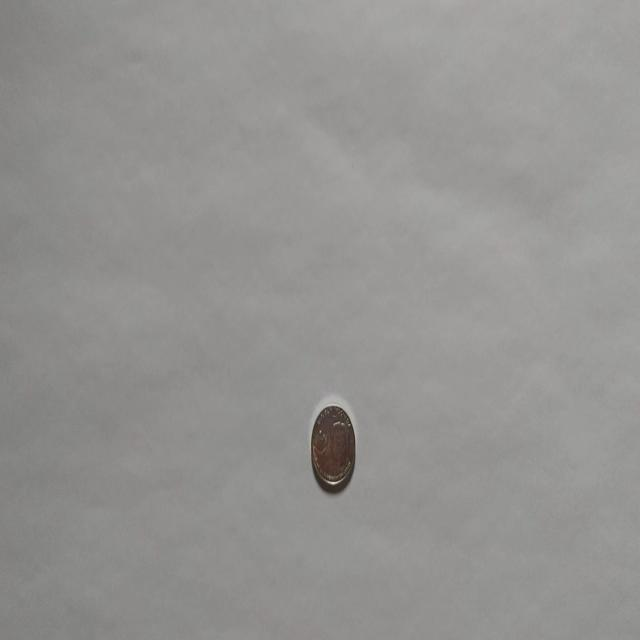seratus rupiah: (310, 402, 356, 492)
